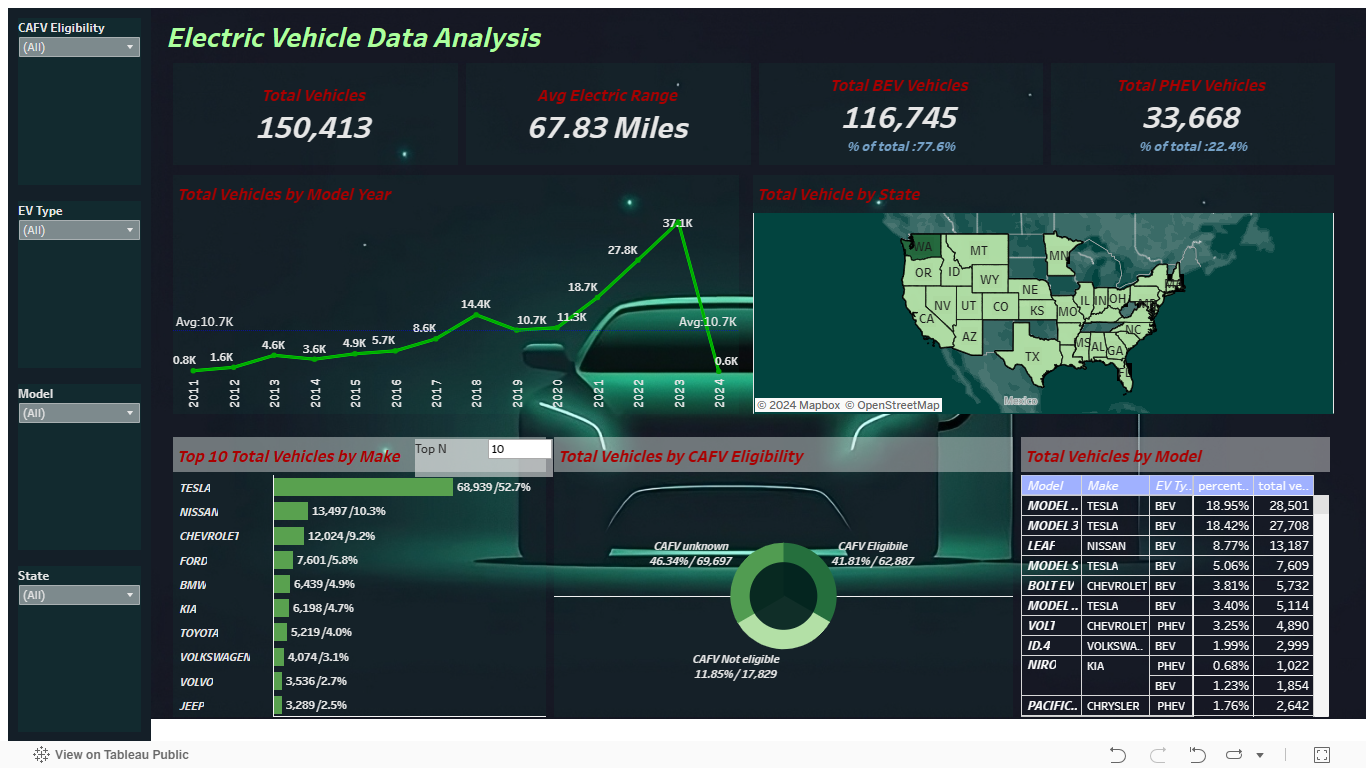

What the dashboard file says about the page in this screenshot:
{"tool":"tableau","page":{"name":"vizualization","canvas":[1000,1000],"units":"permille","ordinal":0},"visuals":[{"type":"filter","title":"Total Vehicles by Model Year","param":"[federated.180nhjo0ia0mxg11hsxt90ds72qf].[none:Clean Alternative Fuel Vehicle (C","box":[7.5,13.5,102,246.6]},{"type":"text","box":[121.7,22,864,52.4]},{"type":"worksheet","title":"total vehicles","mark":"Automatic","box":[123.1,79.4,214.5,148.7]},{"type":"worksheet","title":"avg electric range","mark":"Automatic","box":[337.6,79.4,214.5,148.7]},{"type":"worksheet","title":"Total BEV Vehicles","mark":"Automatic","box":[552.1,79.4,214.5,148.7]},{"type":"worksheet","title":"Total PHEV Vehicles","mark":"Automatic","box":[766.6,79.4,213.7,148.7]},{"type":"worksheet","title":"Total Vehicles by Model Year","mark":"Line","rows":["Calculation_147774380520857600","Calculation_147774380520857600"],"cols":["Model Year"],"box":[121.7,226.3,438.1,341.2]},{"type":"worksheet","title":"Total Vehicle by State","mark":"Automatic","box":[559.7,226.3,422.2,341.2]},{"type":"filter","title":"Total Vehicles by Model Year","param":"[federated.180nhjo0ia0mxg11hsxt90ds72qf].[none:Electric Vehicle Type:nk]","box":[7.5,260.1,102,246.6]},{"type":"filter","title":"Total Vehicles by Model Year","param":"[federated.180nhjo0ia0mxg11hsxt90ds72qf].[none:Model:nk]","box":[7.5,506.8,102,246.6]},{"type":"worksheet","title":"Top 10 Total Vehicles by Make","mark":"Automatic","rows":["Make"],"cols":["Calculation_147774380520857600"],"box":[123.4,584.5,287.8,388.5]},{"type":"worksheet","title":"Total Vehicles by CAFV Eligibility","mark":"Pie","rows":["Calculation_75435311807545345","Calculation_75435311807545345"],"box":[411.1,584.5,326.4,388.5]},{"type":"worksheet","title":"Total Vehicles by Model","mark":"Automatic","rows":["Model","Make","Electric Vehicle Type"],"box":[737.5,584.5,240.9,388.5]},{"type":"parameter","param":"[Parameters].[Parameter 1]","box":[303.6,592.9,101.2,50.7]},{"type":"filter","title":"Total Vehicles by Model Year","param":"[federated.180nhjo0ia0mxg11hsxt90ds72qf].[none:State:nk]","box":[7.5,753.4,102,244.9]}]}

Visuals, with their boxes on the dashboard's canvas, which has no fixed pixel size, in thousandths of its width and height (x1, y1, x2, y2). These are canvas units, not pixel positions in the 1366x768 screenshot, which may show the page scaled, cropped or inside an application window:
"Total Vehicles by Model Year" filter: l=8, t=14, r=110, b=260
text: l=122, t=22, r=986, b=74
"total vehicles" worksheet: l=123, t=79, r=338, b=228
"avg electric range" worksheet: l=338, t=79, r=552, b=228
"Total BEV Vehicles" worksheet: l=552, t=79, r=767, b=228
"Total PHEV Vehicles" worksheet: l=767, t=79, r=980, b=228
"Total Vehicles by Model Year" worksheet (Line marks): l=122, t=226, r=560, b=568
"Total Vehicle by State" worksheet: l=560, t=226, r=982, b=568
"Total Vehicles by Model Year" filter: l=8, t=260, r=110, b=507
"Total Vehicles by Model Year" filter: l=8, t=507, r=110, b=753
"Top 10 Total Vehicles by Make" worksheet: l=123, t=584, r=411, b=973
"Total Vehicles by CAFV Eligibility" worksheet (Pie marks): l=411, t=584, r=738, b=973
"Total Vehicles by Model" worksheet: l=738, t=584, r=978, b=973
parameter: l=304, t=593, r=405, b=644
"Total Vehicles by Model Year" filter: l=8, t=753, r=110, b=998
